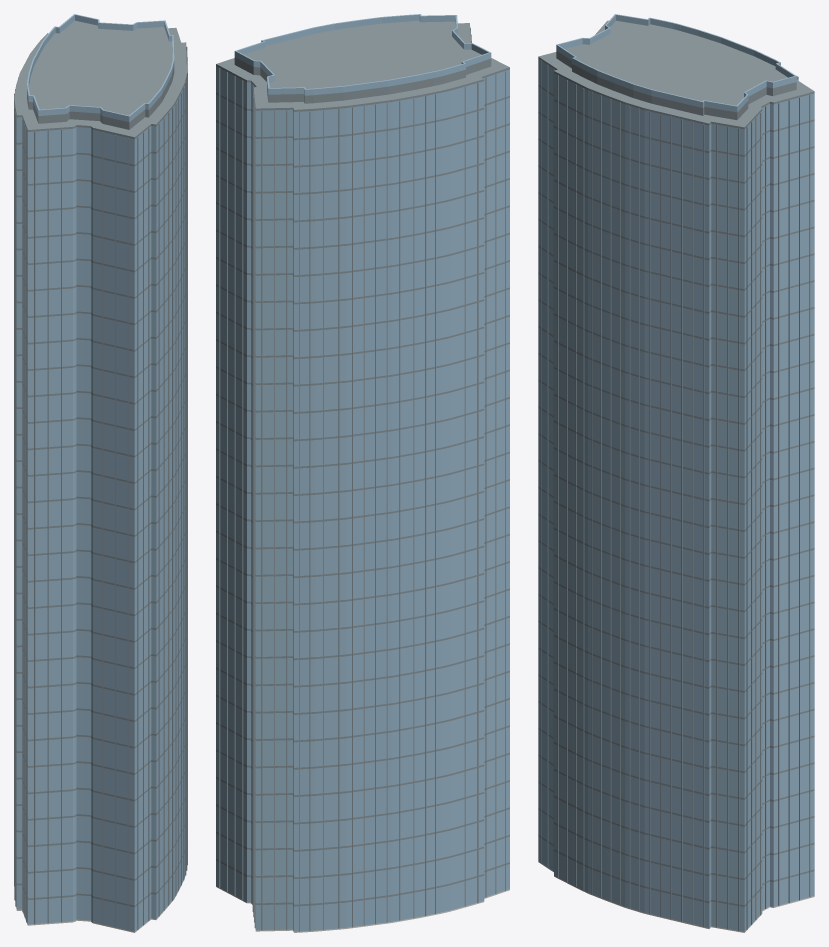
3 views of the same model, side by side, from view 1: azimuth 30°, elevation 25°; view 2: azimuth 150°, elevation 25°; view 3: azimuth 270°, elevation 25° (orthographic). The views are drawn at different scales.
Parts seen in each view (by area): view 1: metal, roof; view 2: metal, roof; view 3: metal, roof.
Boxes of the visible parts, box(x1,y1,x2,y2) form: metal: box(14, 14, 186, 931); roof: box(14, 20, 187, 930); metal: box(216, 14, 509, 931); roof: box(216, 20, 509, 931); metal: box(538, 14, 814, 931); roof: box(538, 20, 814, 930).
Bounding box in the file's own units: 58.78 × 210 × 64.26.
